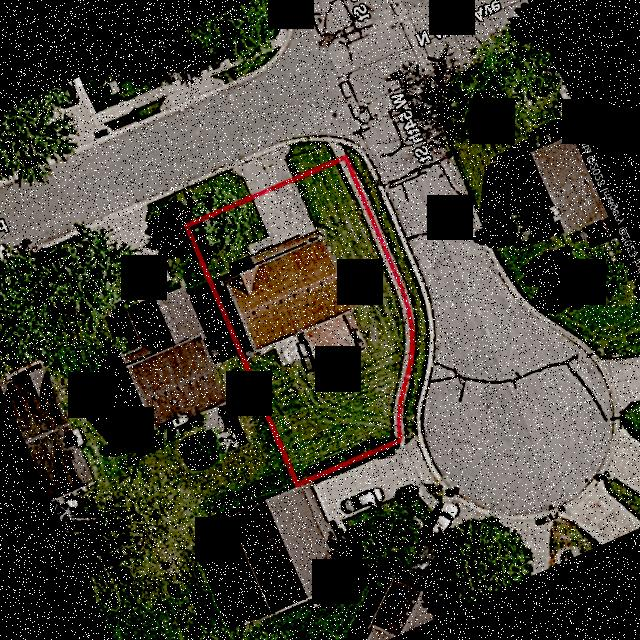Driveway: (247, 184, 314, 255)
Extra Driveway: (232, 143, 291, 195)
Extra Lawn: (338, 142, 430, 444), (169, 169, 250, 225), (284, 140, 336, 178)
Extra Sidewalk: (328, 142, 344, 158)
House: (223, 234, 365, 373)
Sidewalk: (337, 160, 409, 439)
